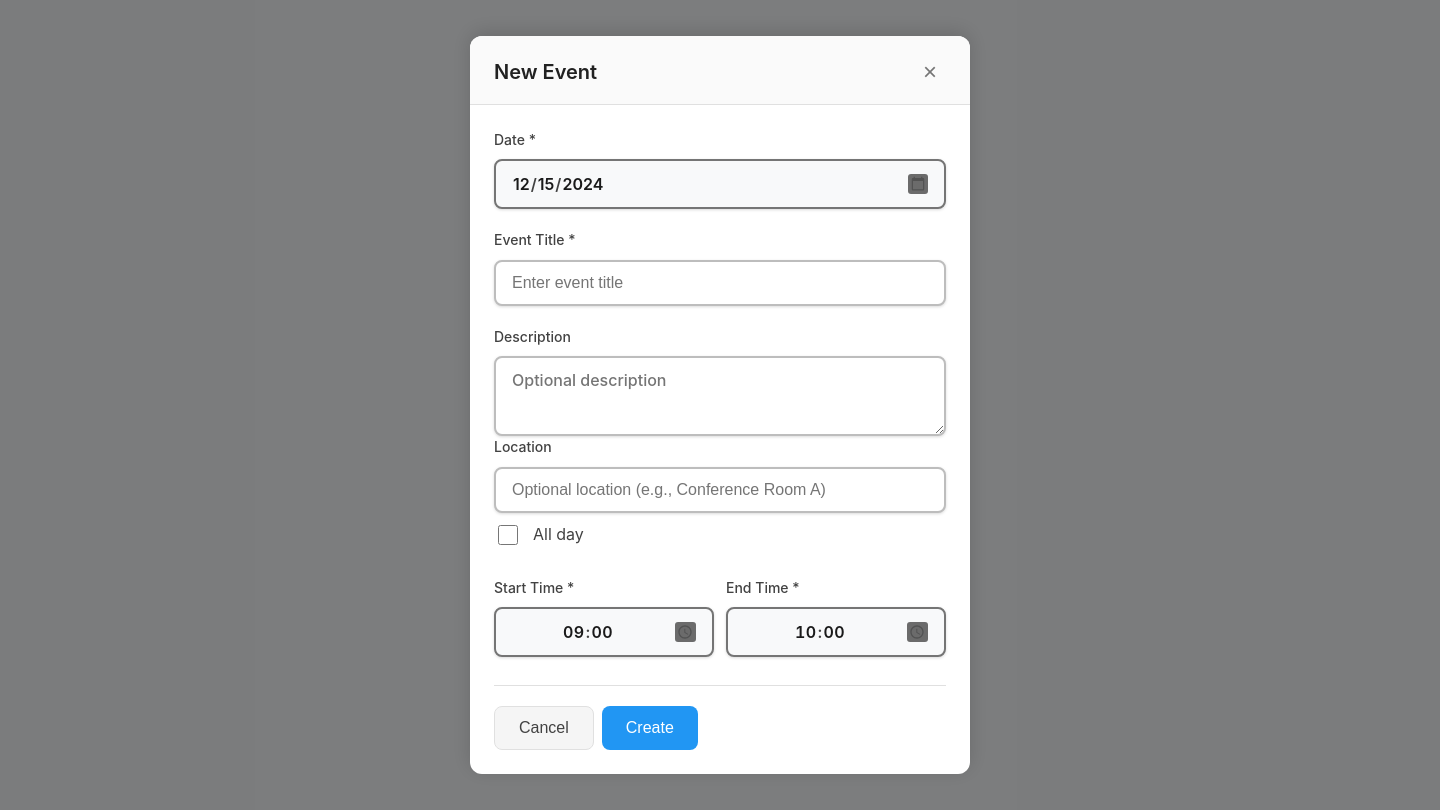
Test: EventModal › Form Validation › shows error when title is empty
Click the button "Create": (650, 728) [602,706,698,750]
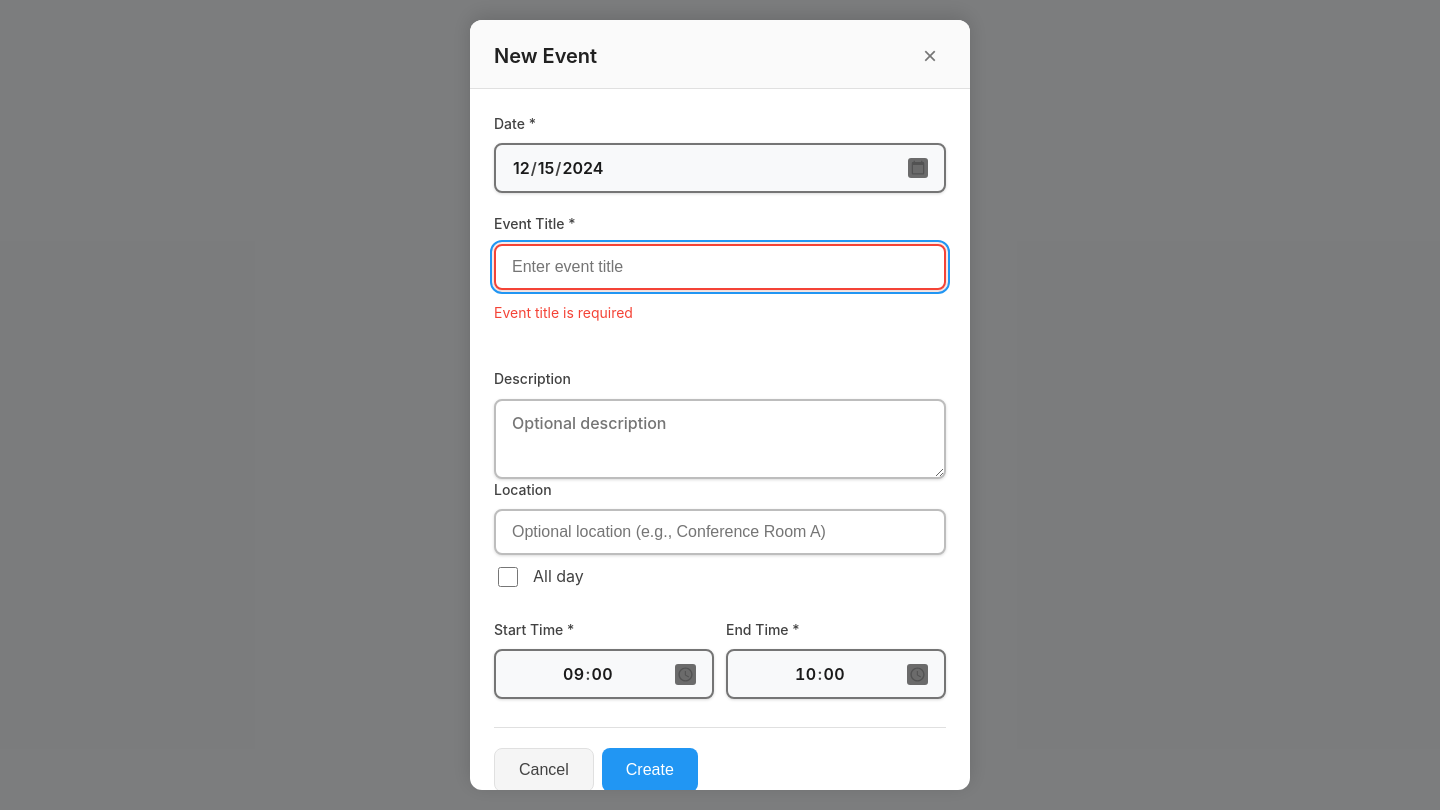
Now the text "Event title is required" is shown, box [494,304,633,321]
